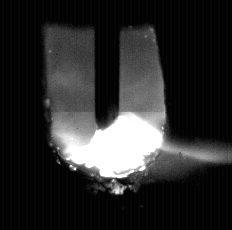arame: (95, 0, 122, 129)
poca: (56, 0, 161, 230)
